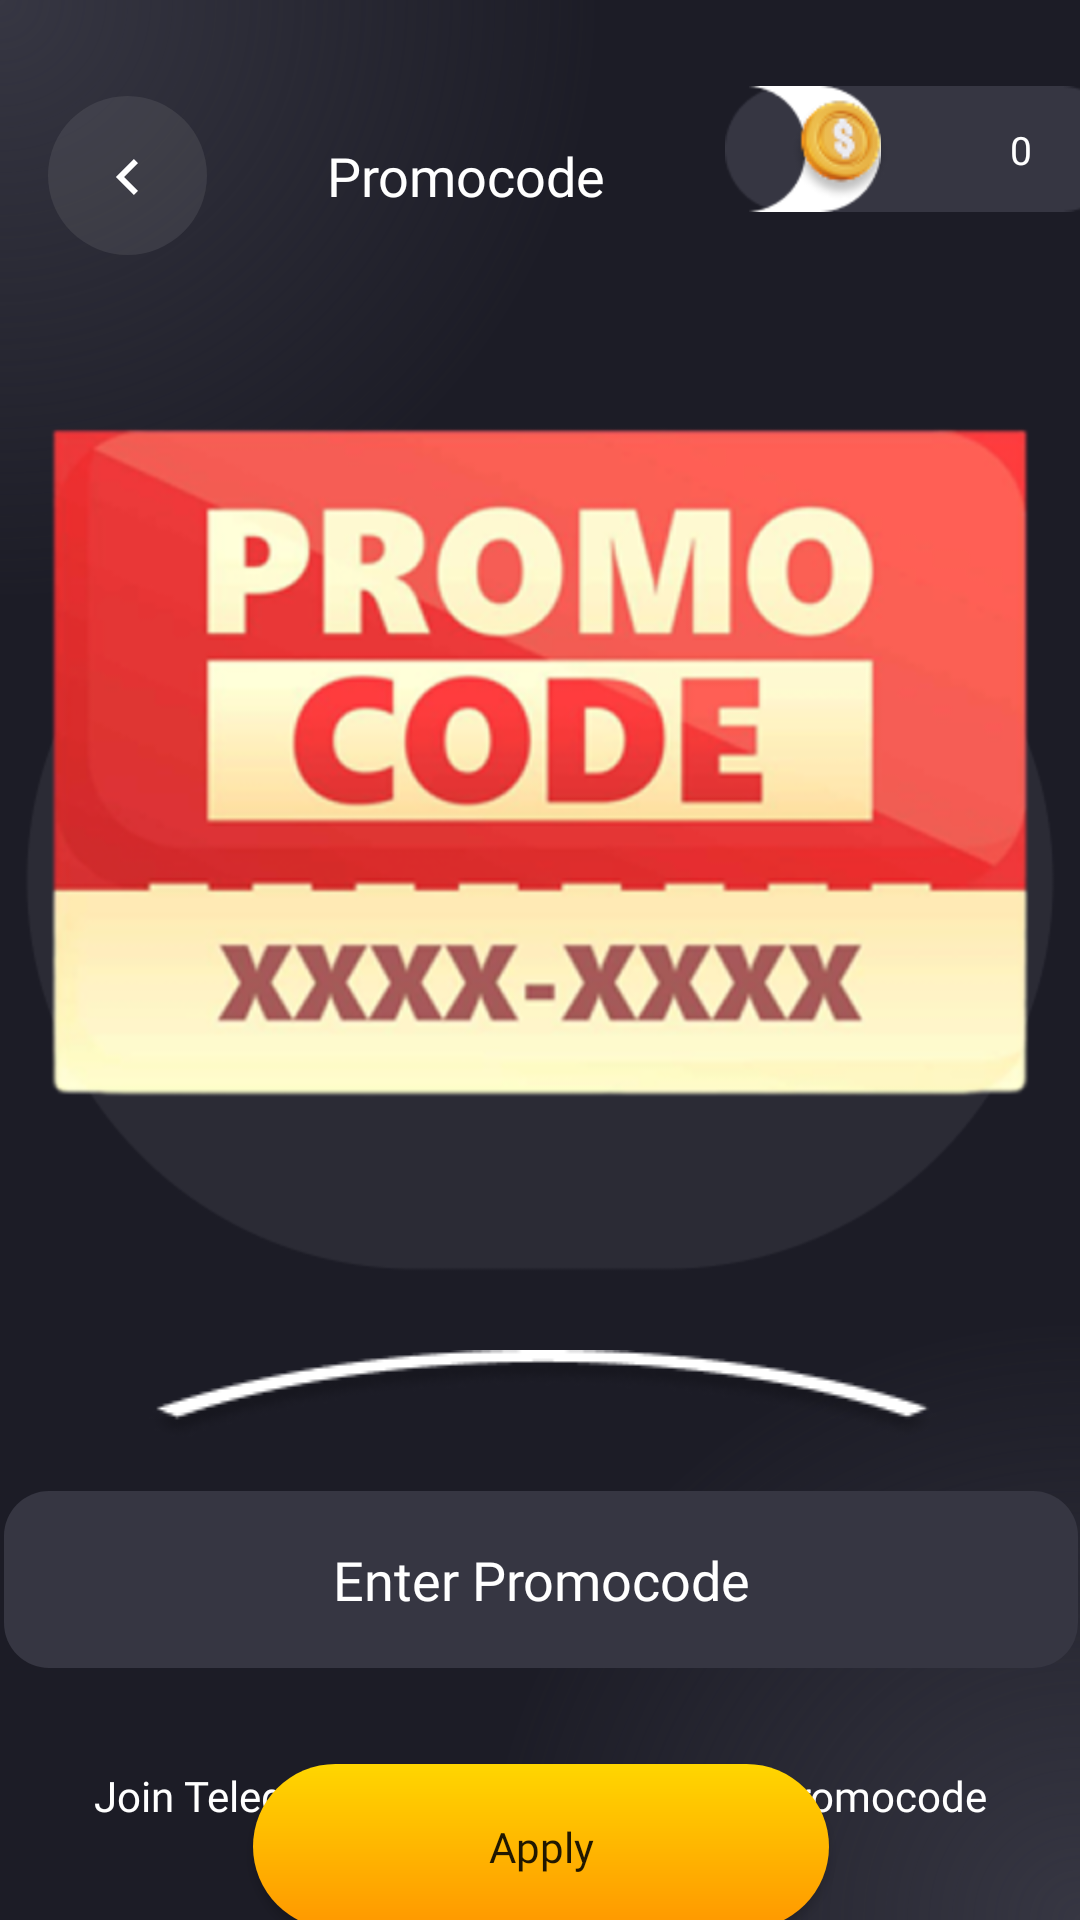

Named icons in this screenshot (1080px×1920px) and their bounding boxes, (x1, y1, x2, y2):
back: (48, 96, 207, 255)
